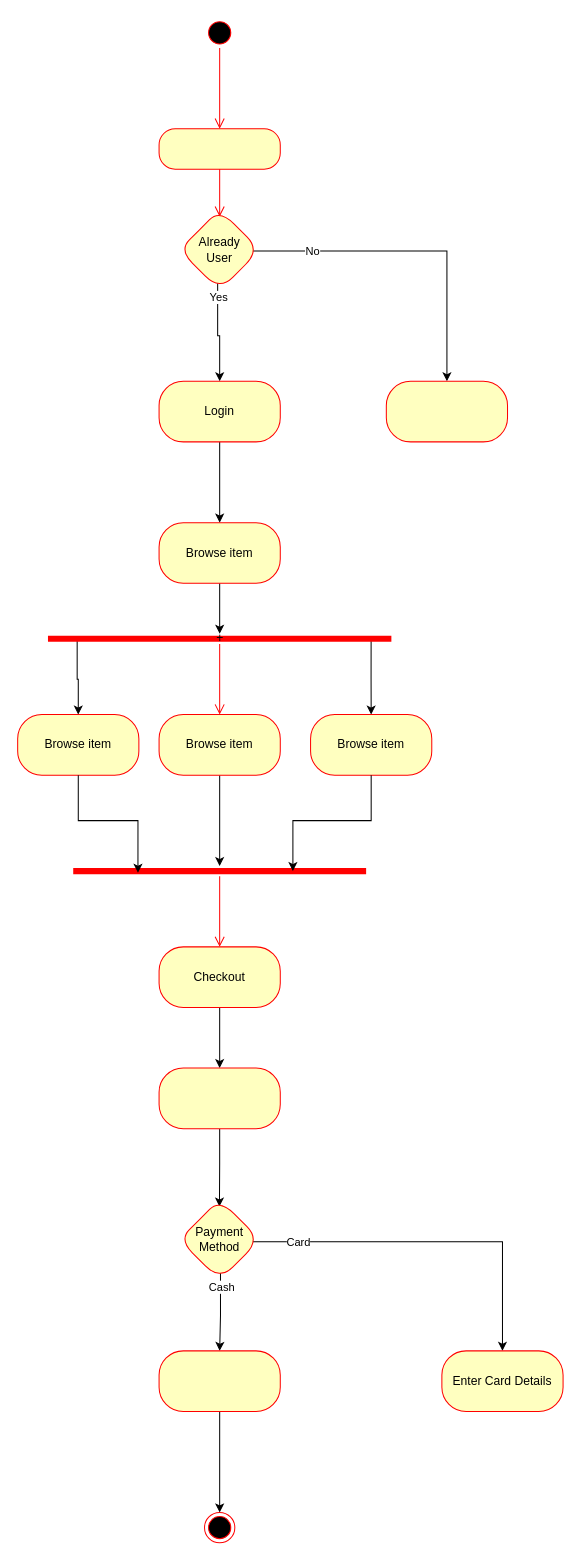
The diagram is 581 pixels wide and 1560 high, and some of its shapes have lost their labels. The box of each missing label's shape, as (x1, y1, x2, y2) in pixels:
Check Registration: (158, 128, 280, 169)
Payment Success: (158, 1350, 280, 1411)
Process to payment: (158, 1067, 280, 1129)
Sign Up: (385, 380, 508, 442)
